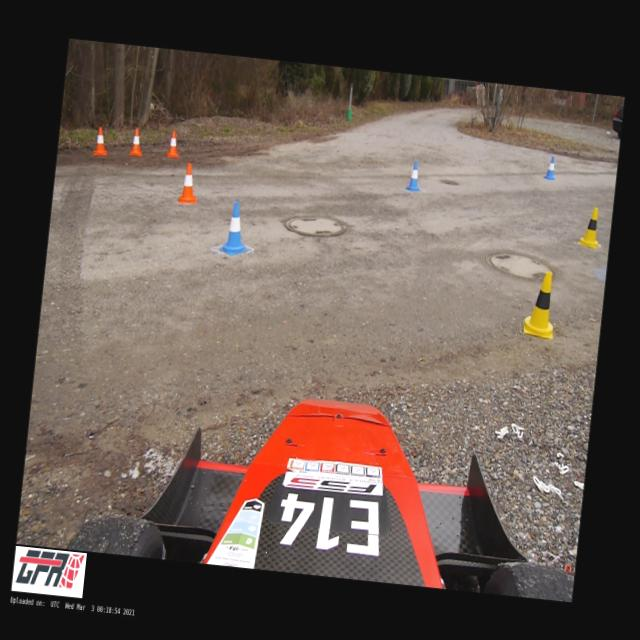blue_cone: (218, 200, 251, 256), (404, 160, 424, 191), (544, 156, 556, 180)
orange_cone: (178, 162, 200, 204), (93, 126, 109, 156), (166, 129, 181, 158), (129, 128, 144, 156)
yellow_cone: (522, 270, 558, 338), (578, 206, 602, 248)
